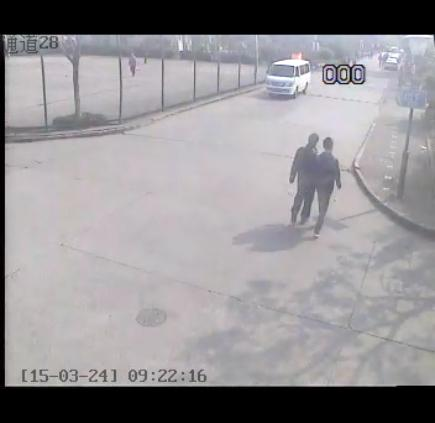person: (287, 131, 321, 228), (315, 136, 344, 238)
